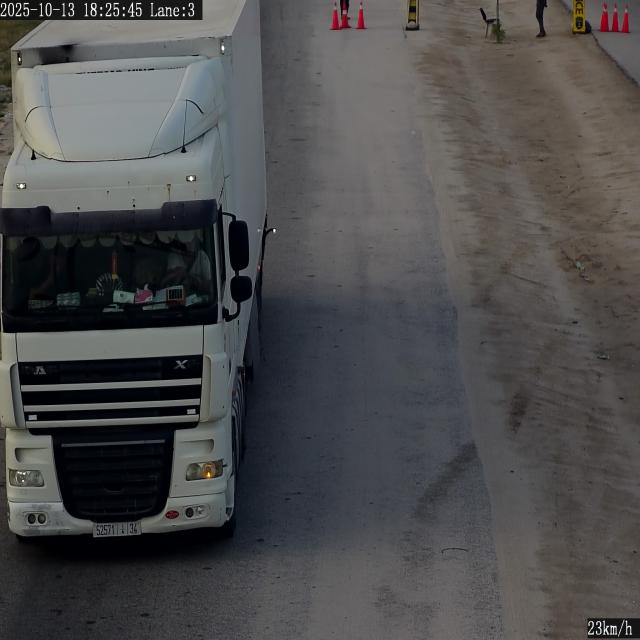BUS: (92, 522, 142, 535)
